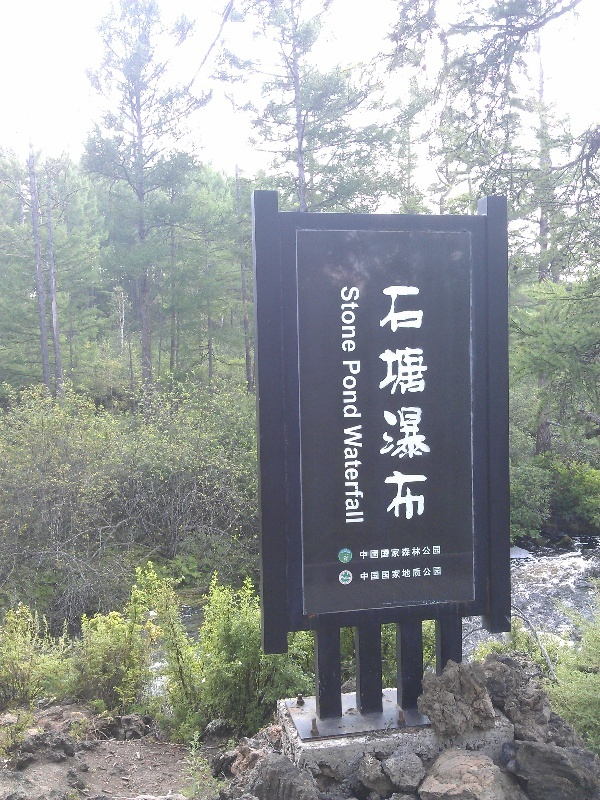text: (385, 283, 400, 522), (401, 283, 416, 522), (417, 283, 432, 522), (375, 283, 384, 522), (353, 424, 367, 525), (342, 424, 352, 525), (340, 286, 352, 356), (353, 286, 362, 356), (342, 360, 352, 419), (353, 360, 362, 419), (433, 283, 435, 522), (369, 565, 384, 582), (385, 565, 400, 582), (401, 565, 416, 582), (417, 565, 432, 582), (369, 545, 384, 561), (385, 545, 400, 561), (401, 545, 416, 561), (417, 545, 432, 561), (433, 565, 443, 582), (359, 545, 368, 561), (433, 545, 442, 561), (360, 565, 368, 582)
